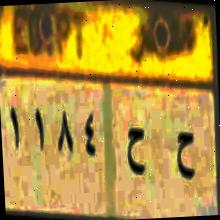1: (5, 98, 24, 156), (30, 105, 48, 157)
4: (82, 106, 98, 165)
7aa: (170, 116, 198, 186), (122, 120, 150, 186)
8: (55, 105, 75, 163)
